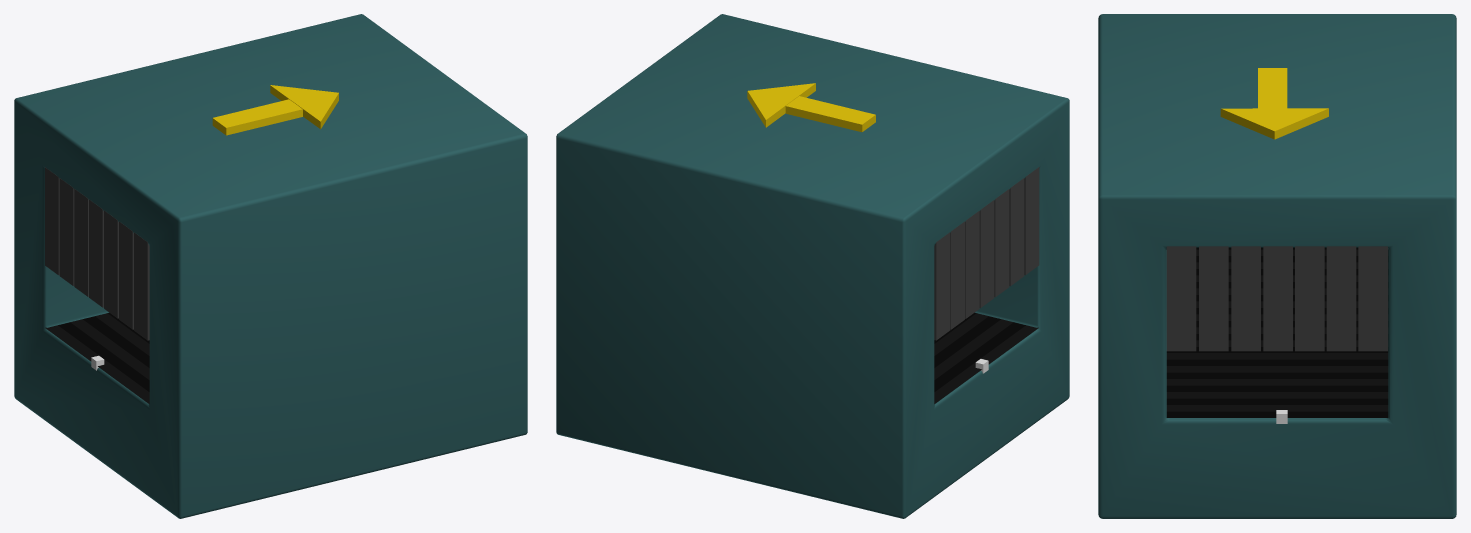
File: ore_washer.fbx
3 views of the same model, side by side, from view 1: azimuth 30°, elevation 25°; view 2: azimuth 150°, elevation 25°; view 3: azimuth 270°, elevation 25° (orthographic). The views are drawn at different scales.
Visible parts, largest first — view 1: Cube, LightBelt.001, BlackBelt.001, Cube.015, Cube.002, Cube.007, Cube.016, Cube.001, Cube.004, Cube.005, Cube.003, Cube.006; view 2: Cube, LightBelt.001, BlackBelt.001, Cube.015, Cube.001, Cube.005, Cube.004, Cube.006, Cube.007, Cube.016, Cube.002, Cube.003; view 3: Cube, LightBelt.002, BlackBelt.002, Cube.008, Cube.013, Cube.009, Cube.010, Cube.011, Cube.012, Cube.014, Cube.016, BlackBelt.001 (+2 smaller).
Boxes of the visible parts, x1=… form: Cube: x1=14, y1=14, x2=527, y2=518; LightBelt.001: x1=45, y1=313, x2=149, y2=404; BlackBelt.001: x1=58, y1=312, x2=149, y2=391; Cube.015: x1=212, y1=99, x2=302, y2=135; Cube.002: x1=59, y1=178, x2=74, y2=285; Cube.007: x1=134, y1=232, x2=149, y2=340; Cube.016: x1=270, y1=85, x2=338, y2=129; Cube.001: x1=45, y1=167, x2=59, y2=275; Cube.004: x1=89, y1=199, x2=103, y2=307; Cube.005: x1=104, y1=210, x2=118, y2=318; Cube.003: x1=74, y1=189, x2=88, y2=296; Cube.006: x1=119, y1=221, x2=133, y2=329; Cube: x1=556, y1=14, x2=1069, y2=518; LightBelt.001: x1=934, y1=313, x2=1038, y2=404; BlackBelt.001: x1=934, y1=312, x2=1025, y2=391; Cube.015: x1=785, y1=96, x2=875, y2=132; Cube.001: x1=934, y1=232, x2=950, y2=340; Cube.005: x1=994, y1=189, x2=1009, y2=297; Cube.004: x1=979, y1=200, x2=994, y2=308; Cube.006: x1=1009, y1=178, x2=1024, y2=286; Cube.007: x1=1024, y1=167, x2=1039, y2=275; Cube.016: x1=747, y1=83, x2=815, y2=127; Cube.002: x1=950, y1=221, x2=964, y2=329; Cube.003: x1=965, y1=211, x2=979, y2=318; Cube: x1=1098, y1=14, x2=1456, y2=518; LightBelt.002: x1=1166, y1=353, x2=1388, y2=411; BlackBelt.002: x1=1166, y1=359, x2=1388, y2=417; Cube.008: x1=1166, y1=246, x2=1196, y2=351; Cube.013: x1=1326, y1=246, x2=1356, y2=351; Cube.009: x1=1199, y1=246, x2=1228, y2=351; Cube.010: x1=1231, y1=246, x2=1260, y2=351; Cube.011: x1=1263, y1=246, x2=1292, y2=351; Cube.012: x1=1295, y1=246, x2=1324, y2=351; Cube.014: x1=1358, y1=246, x2=1387, y2=351; Cube.016: x1=1220, y1=108, x2=1328, y2=139; BlackBelt.001: x1=1166, y1=247, x2=1388, y2=352.
Bounding box in the file's own units: 107 × 89.9 × 87.85.
